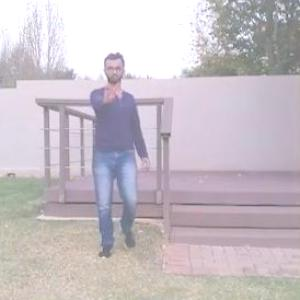takeoff-hand: (98, 72, 121, 105)
